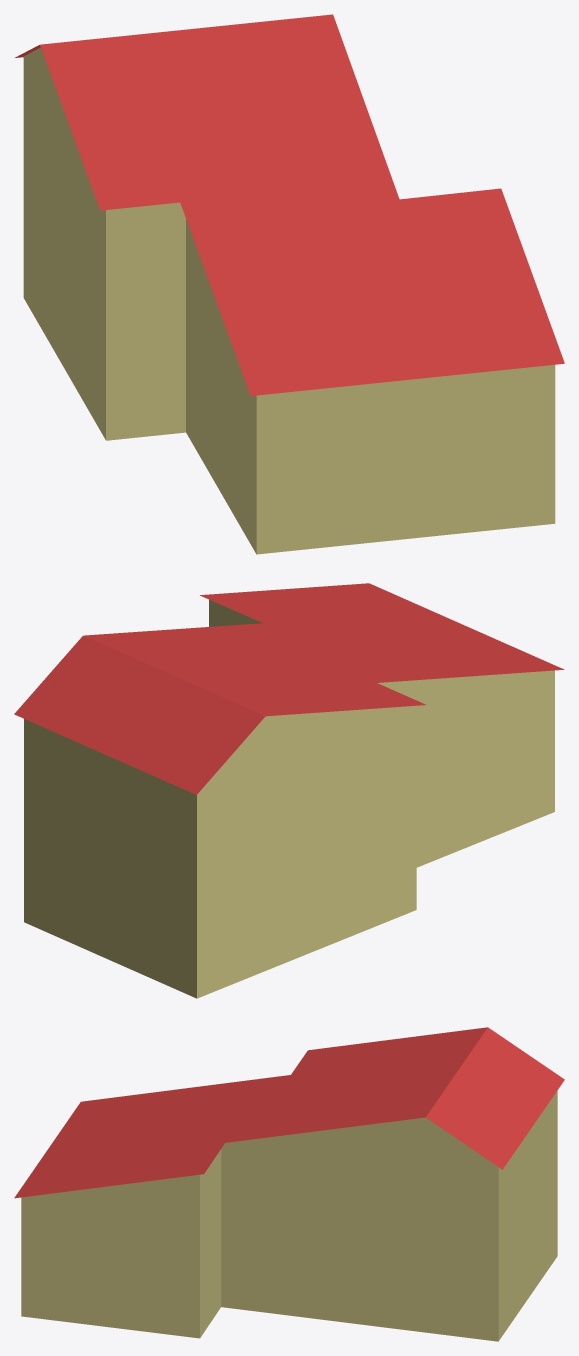
The picture shows the model from 3 angles, top to bottom: view 1: azimuth 30°, elevation 25°; view 2: azimuth 150°, elevation 25°; view 3: azimuth 270°, elevation 25°; orthographic projection. The views are drawn at different scales.
Size of the model in its own units: 12.28 by 23.19 by 10.11.
